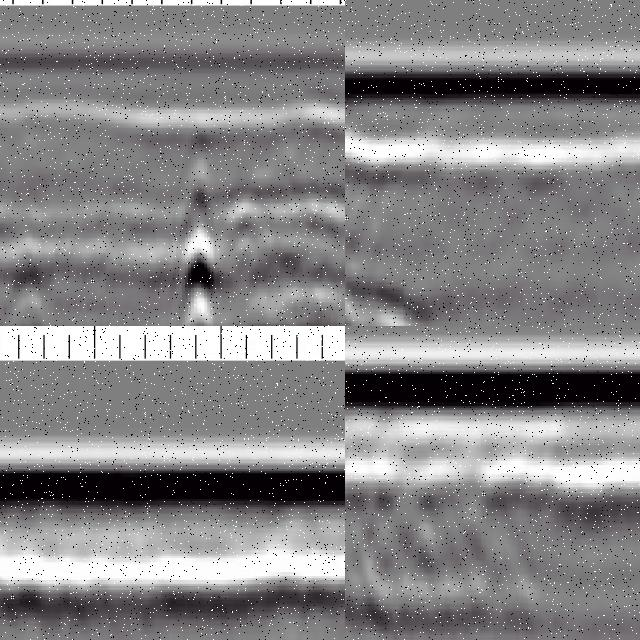crack: (177, 123, 217, 327)
loose: (346, 441, 537, 630), (346, 267, 466, 327), (1, 583, 58, 640)
